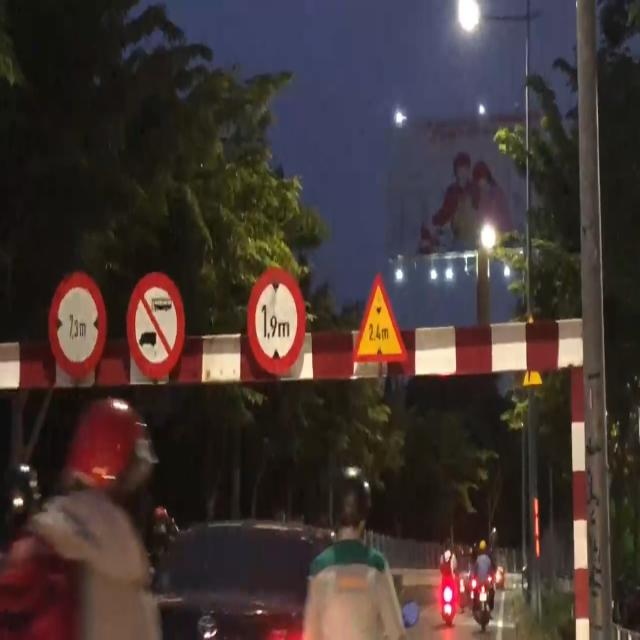Bien bao cam xe oto khach va xe oto tai: (123, 268, 199, 387)
Bien bao chieu cao tinh khong thuc te: (349, 261, 408, 372)
Bien bao han che chieu cao: (244, 260, 312, 387)
